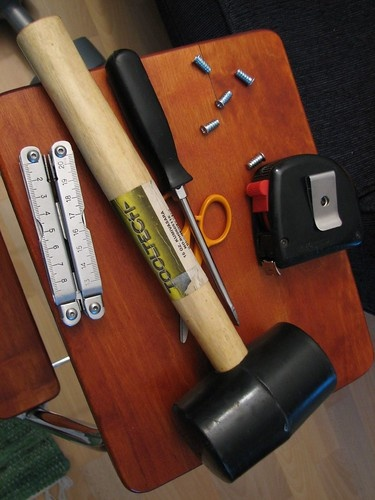hammer: (15, 15, 339, 485)
